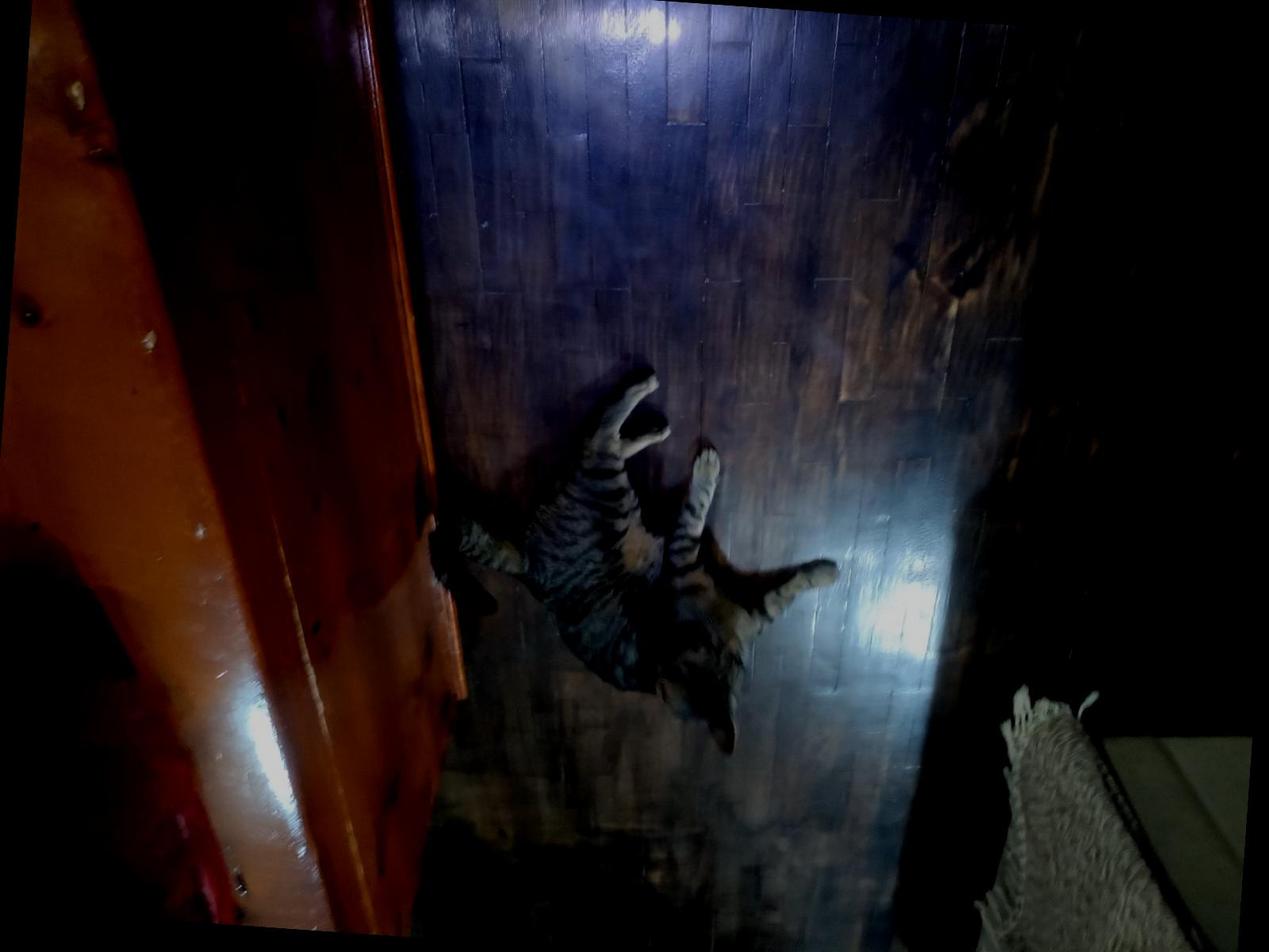macka: (408, 350, 853, 763)
